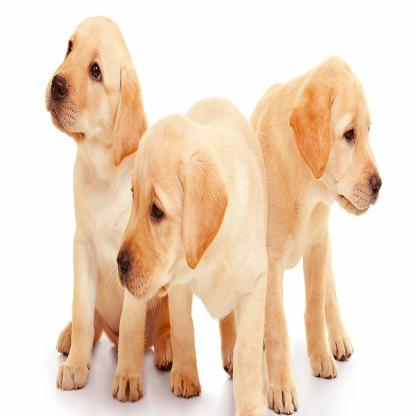dog: (114, 95, 269, 416), (249, 43, 382, 416), (46, 18, 153, 392)
